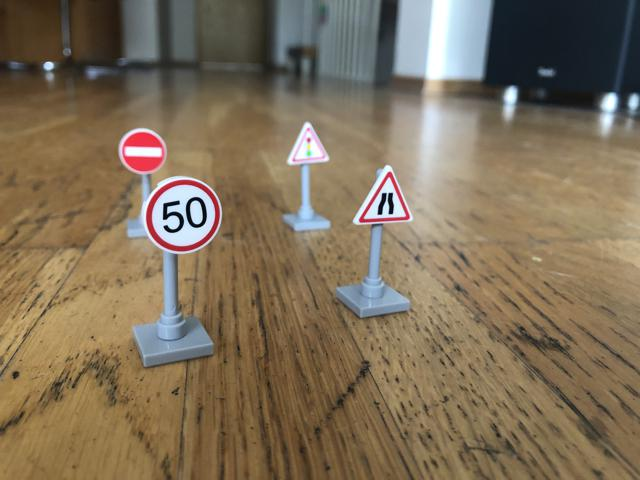lichtzeichenanlage: (281, 121, 334, 166)
tempolimit 50: (143, 176, 223, 252)
verbot der einfahrt: (117, 126, 167, 178)
verengte fahrbahn: (350, 166, 414, 228)
